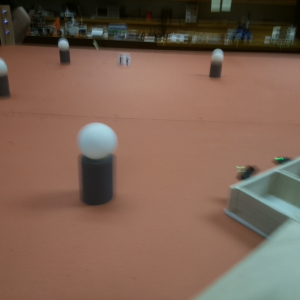blockF: (117, 53, 131, 66)
corner: (1, 8, 11, 45)
obstacle: (75, 123, 118, 207), (207, 47, 225, 81), (1, 59, 11, 101), (58, 39, 73, 64)
side: (225, 150, 300, 184)
